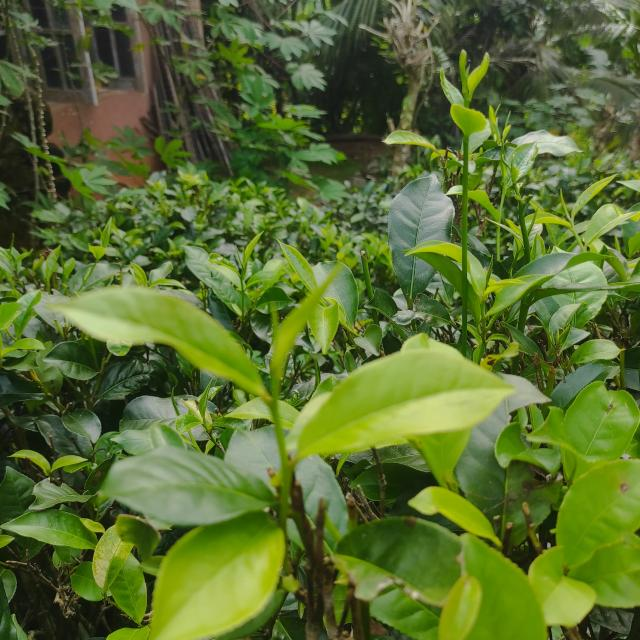unopened_leaf: (262, 248, 370, 387), (558, 186, 573, 224), (527, 202, 541, 238), (484, 253, 496, 289), (169, 385, 182, 418), (557, 322, 573, 346), (234, 243, 245, 269), (502, 109, 512, 132), (492, 101, 504, 118), (612, 231, 622, 250), (464, 62, 472, 80), (509, 152, 516, 170)
